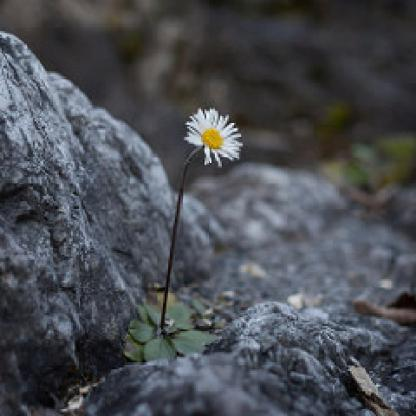ASTER: (145, 62, 270, 190)
